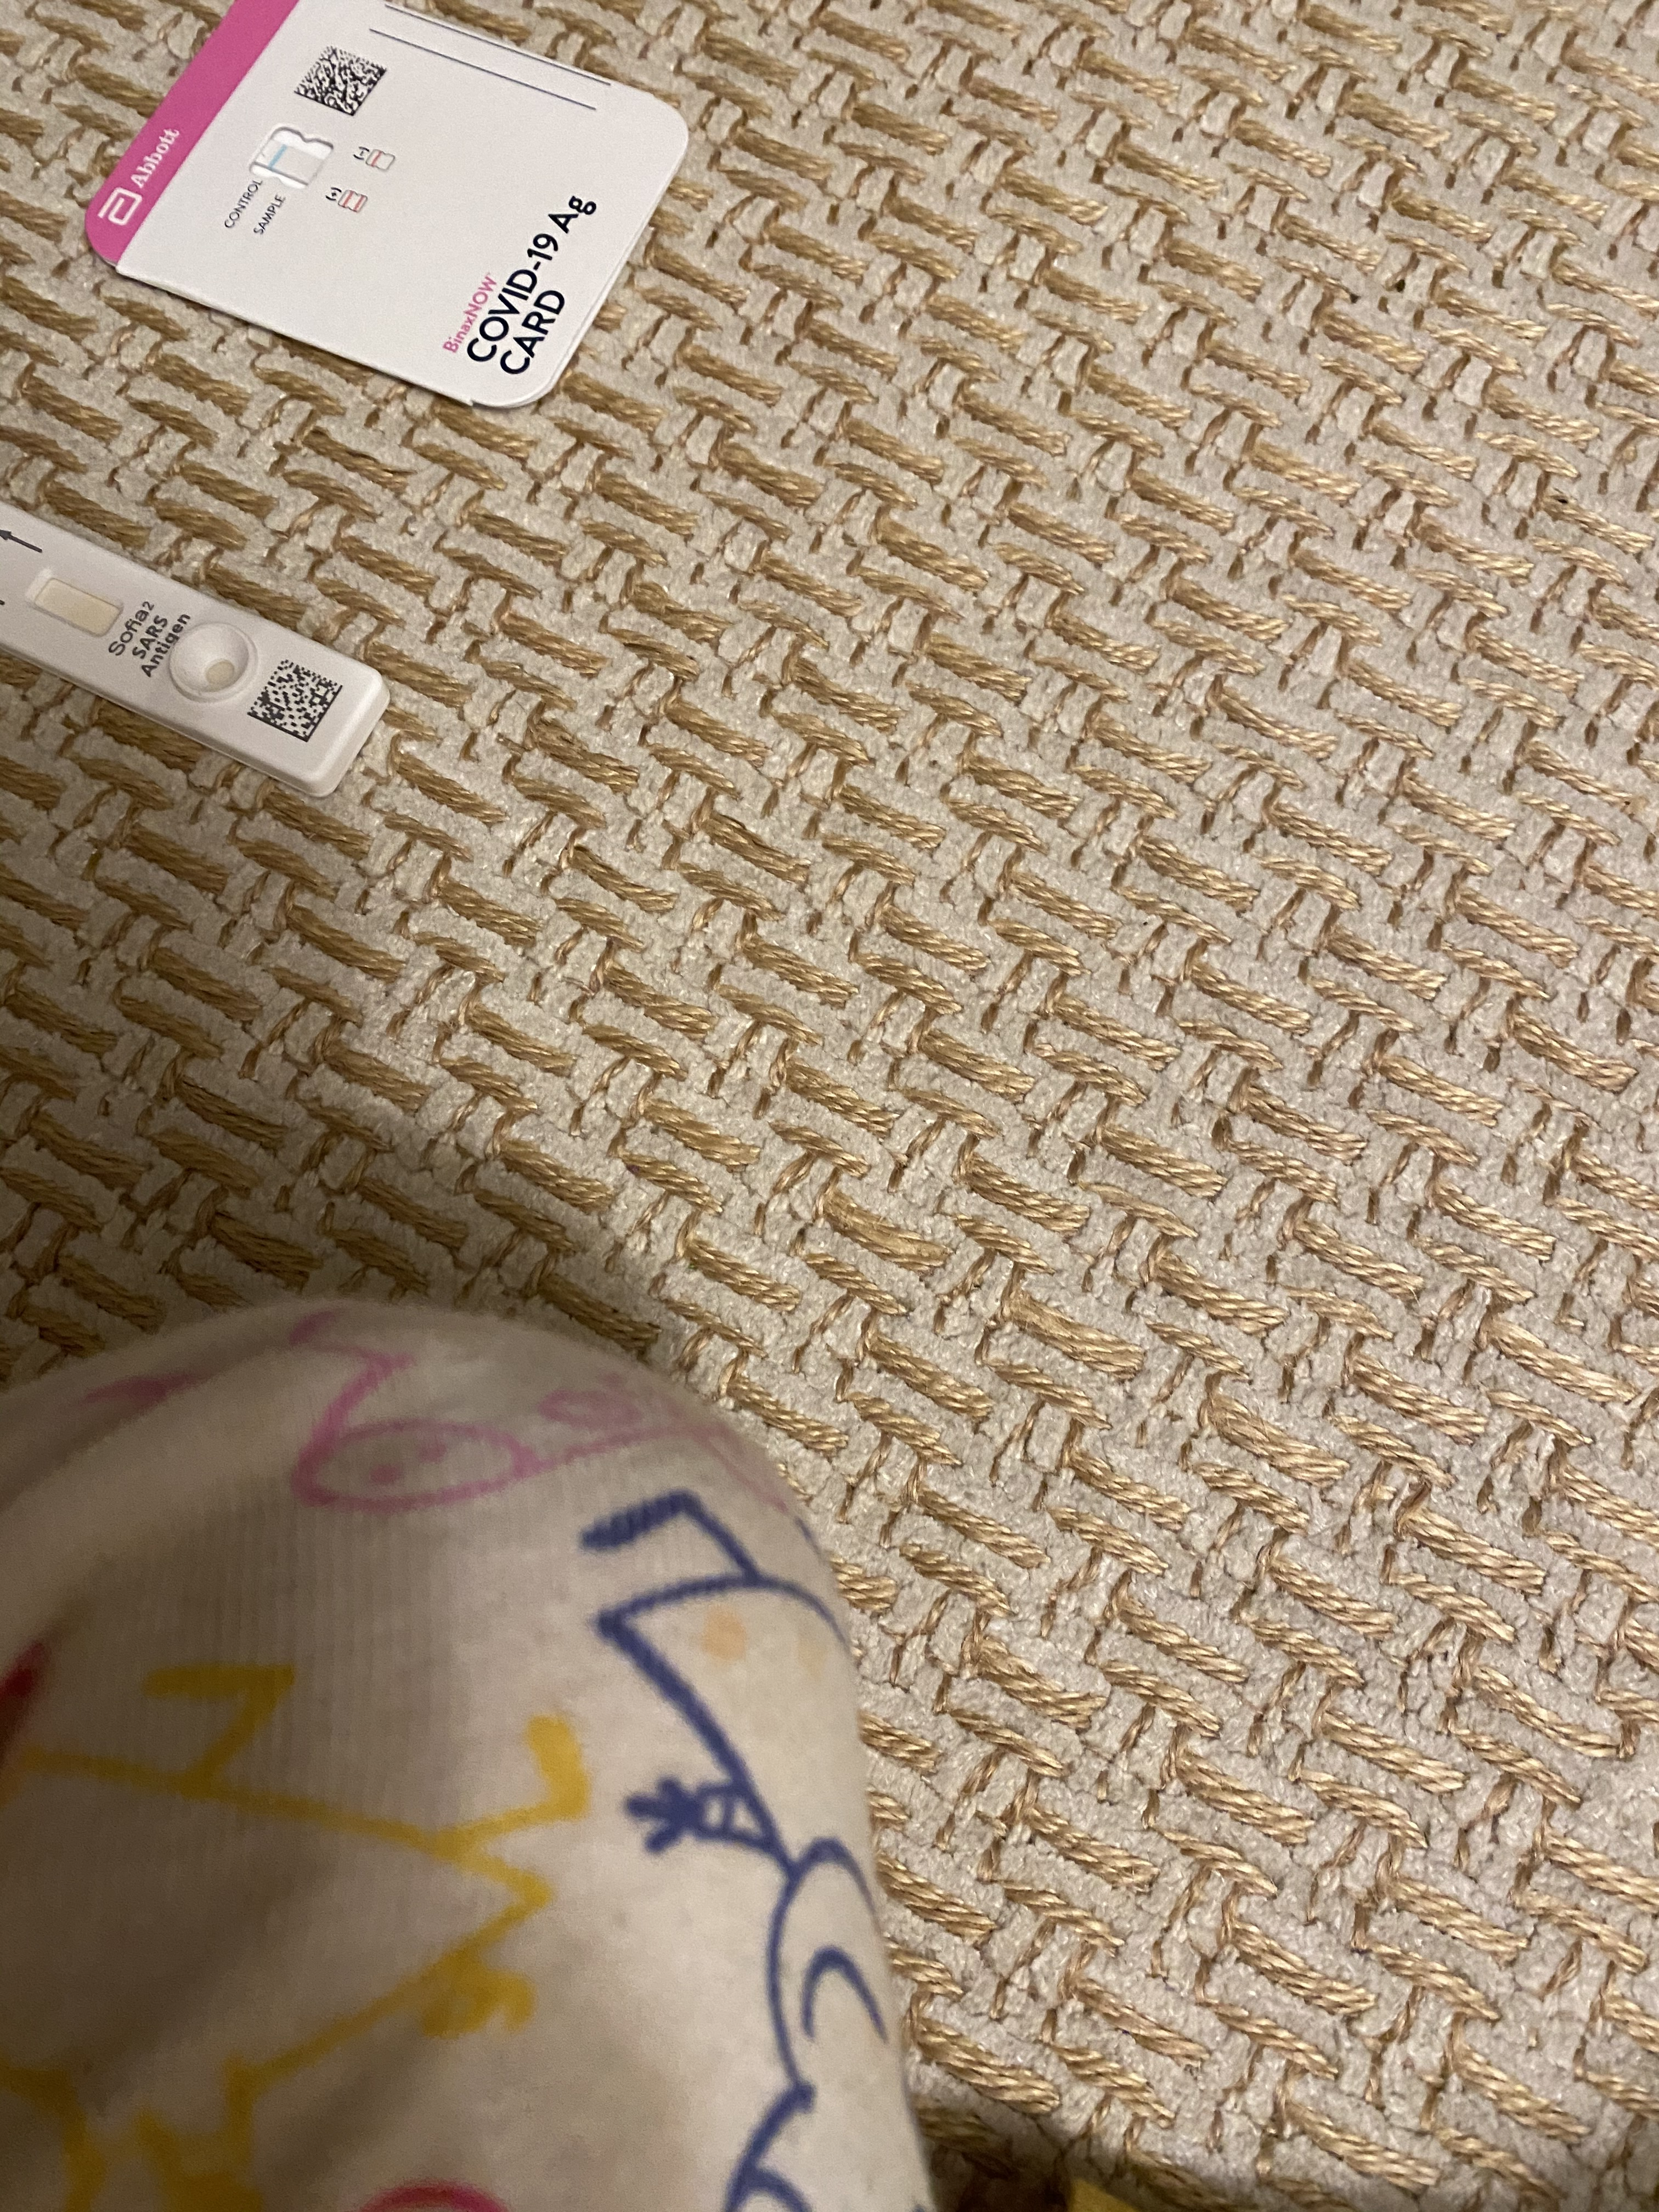binax: (80, 5, 708, 408)
quidel: (0, 465, 406, 803)
